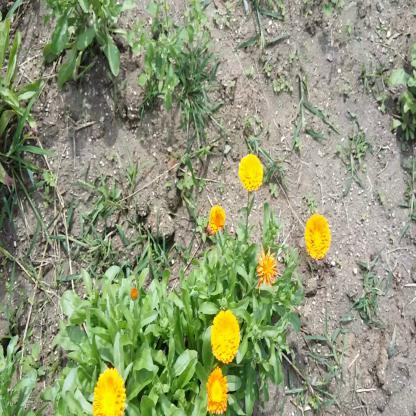marigold: (210, 313, 239, 364), (94, 367, 124, 416), (306, 214, 330, 260), (239, 154, 264, 190), (207, 371, 228, 410)
